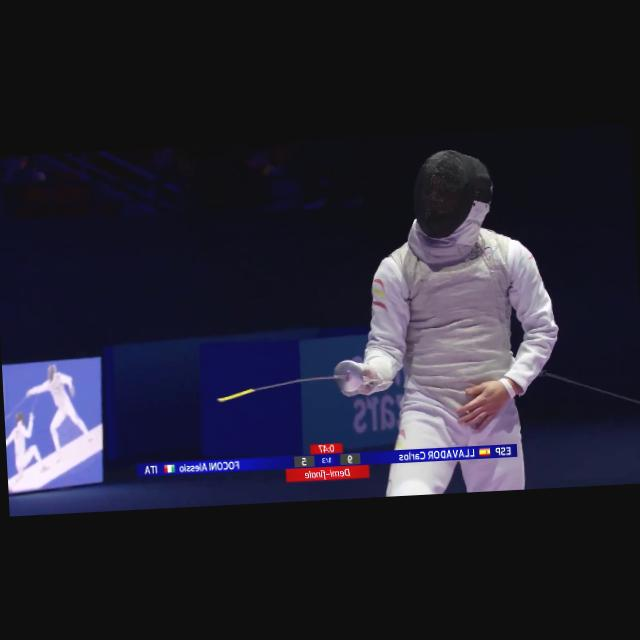blade: (207, 353, 372, 418)
